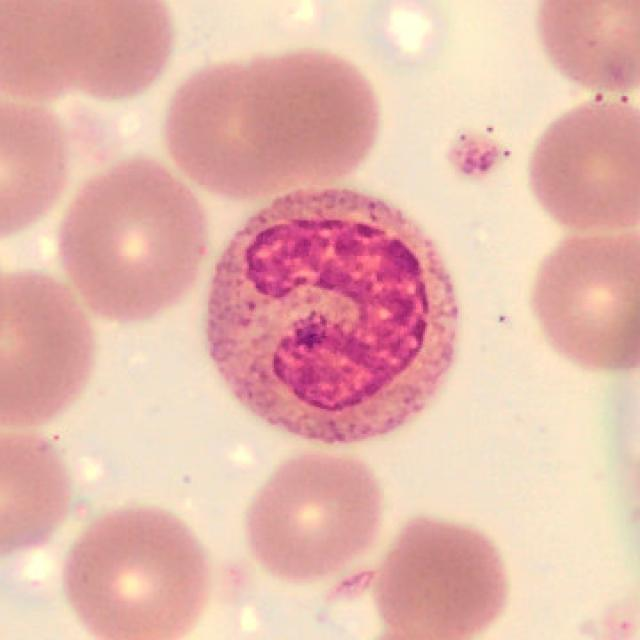Bastonete: (206, 190, 460, 446)
